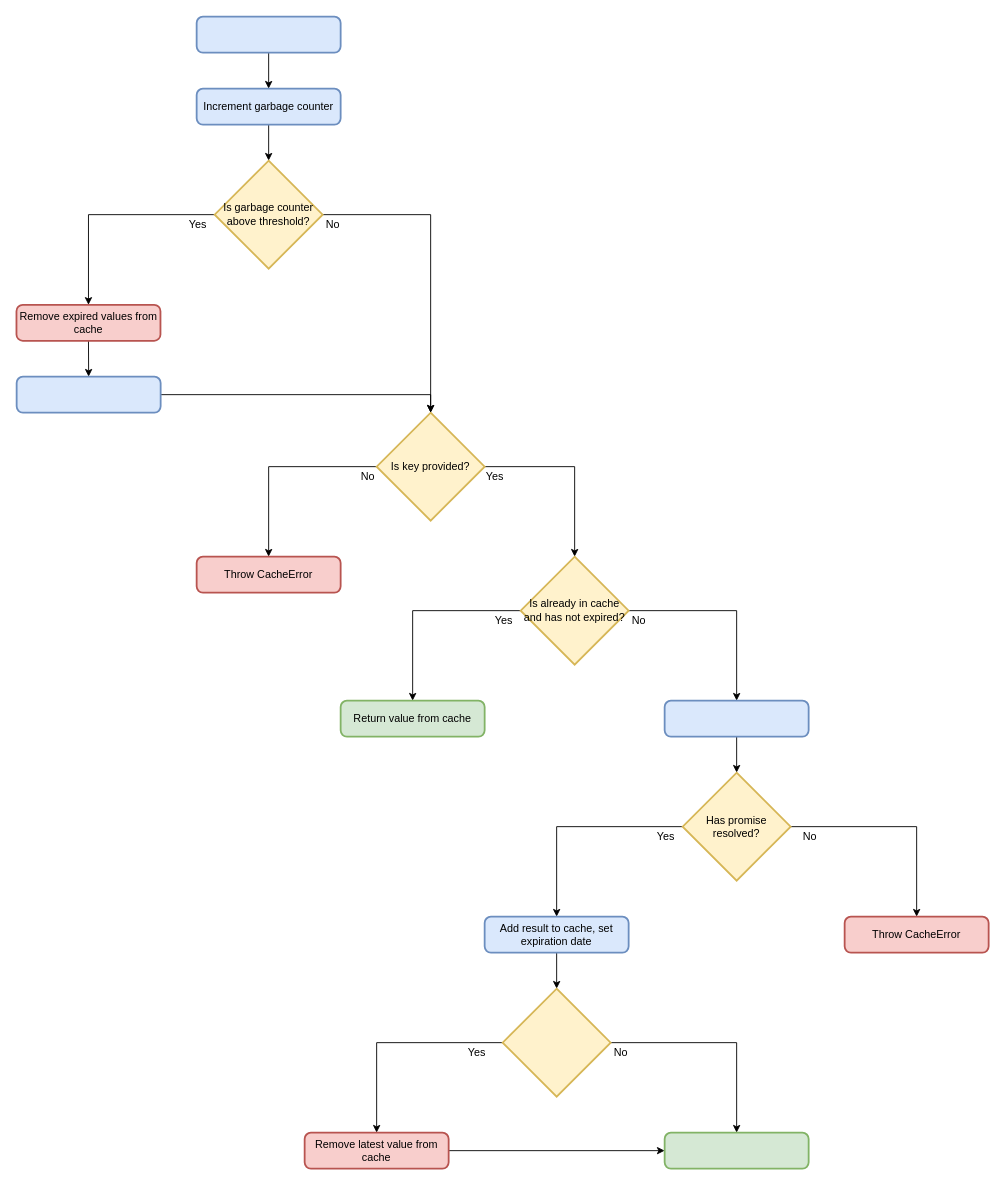
Some shapes in this 1005 by 1184 pixel diagram are drawn without their labels. Here are the shapes that lost their labels. From the top down, the centre of each, then its label:
At point 268,34: "Start execution".
At point 88,394: "Reset garbage counter".
At point 736,718: "Execute func".
At point 556,1042: "Has Cache reached queue limit?".
At point 736,1150: "Return result".
